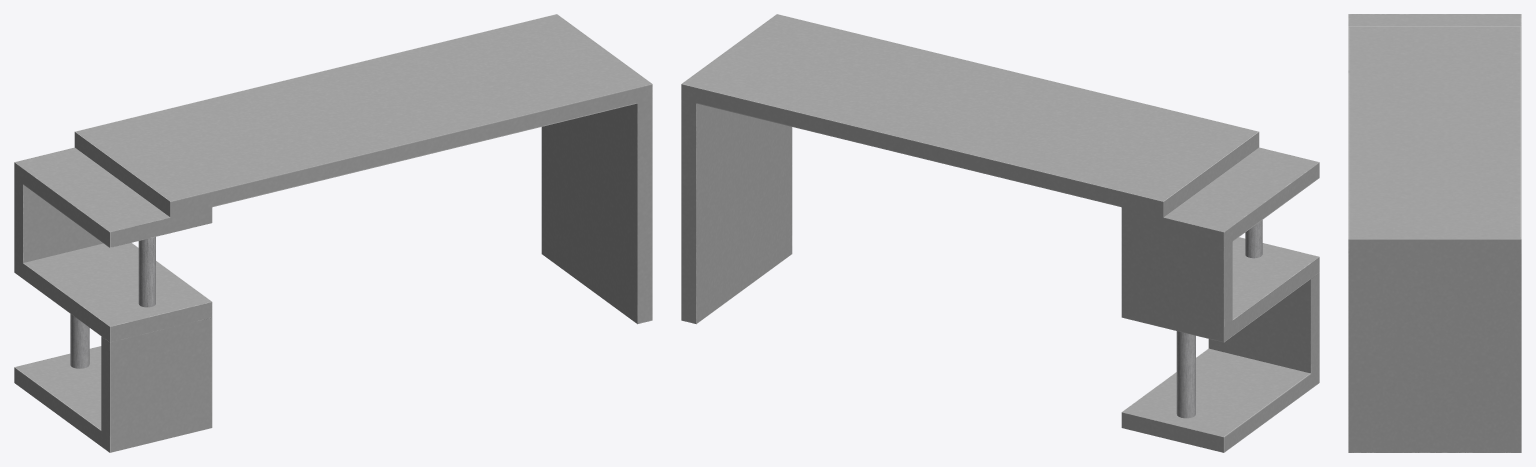
Rendered from desk1.glb.
3 renders of one model, left to right at view 1: azimuth 30°, elevation 25°; view 2: azimuth 150°, elevation 25°; view 3: azimuth 270°, elevation 25°, orthographic. The views are drawn at different scales.
Bounding box in the file's own units: 2.25 × 0.938 × 0.6881.
Materials: 1 (1 with a texture image).
